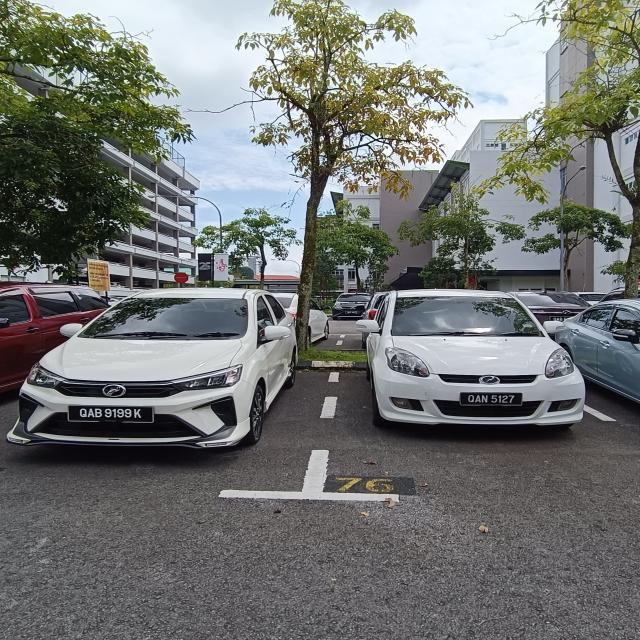PeroduaBezza: (2, 284, 303, 464)
PeroduaMyvi: (354, 289, 591, 437)
